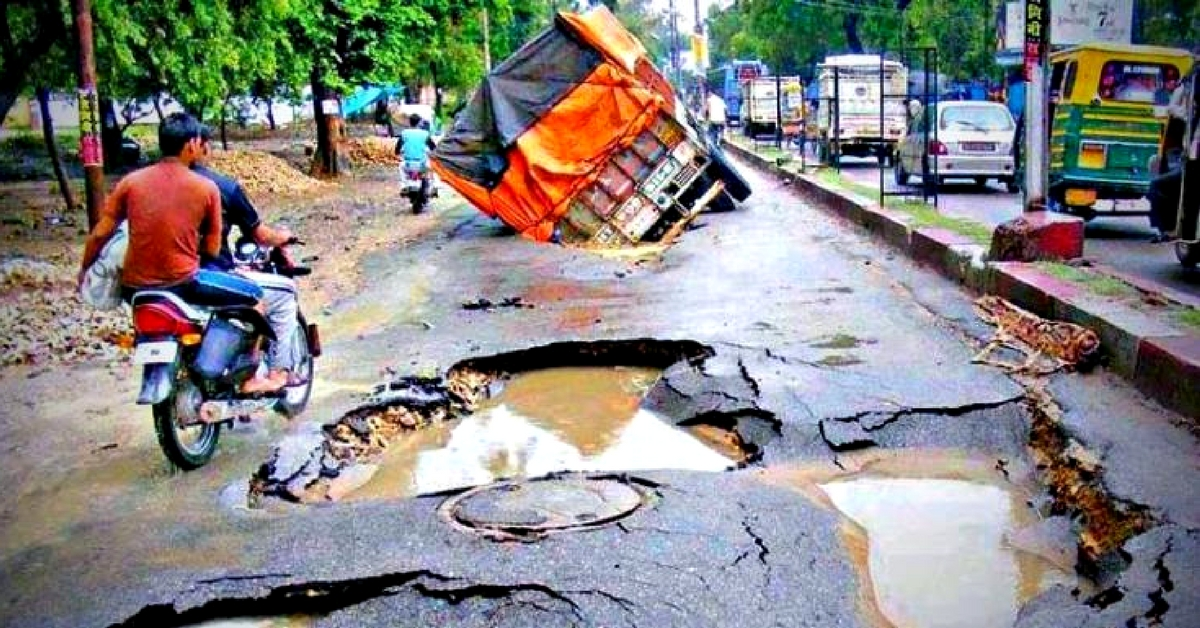pothole: (260, 312, 780, 525), (817, 375, 1080, 627)
